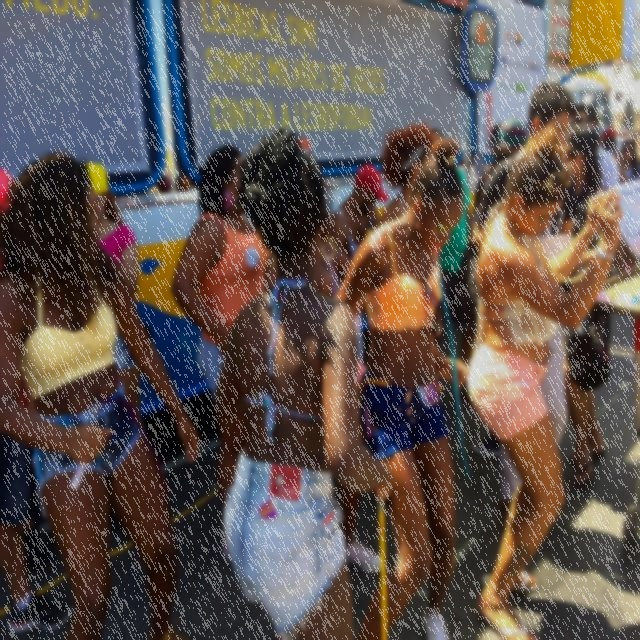pessoa: (212, 126, 395, 640), (466, 126, 624, 638), (332, 138, 473, 640), (472, 78, 582, 532), (169, 142, 267, 567), (264, 238, 386, 576), (0, 166, 77, 632), (88, 161, 150, 436), (407, 135, 470, 405), (561, 123, 608, 484), (4, 486, 72, 580), (328, 164, 391, 264), (378, 123, 437, 228), (600, 126, 631, 276), (570, 102, 620, 190), (470, 121, 508, 226), (486, 115, 529, 168), (620, 139, 640, 182)
